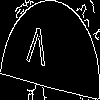V: (25, 25, 48, 76)
